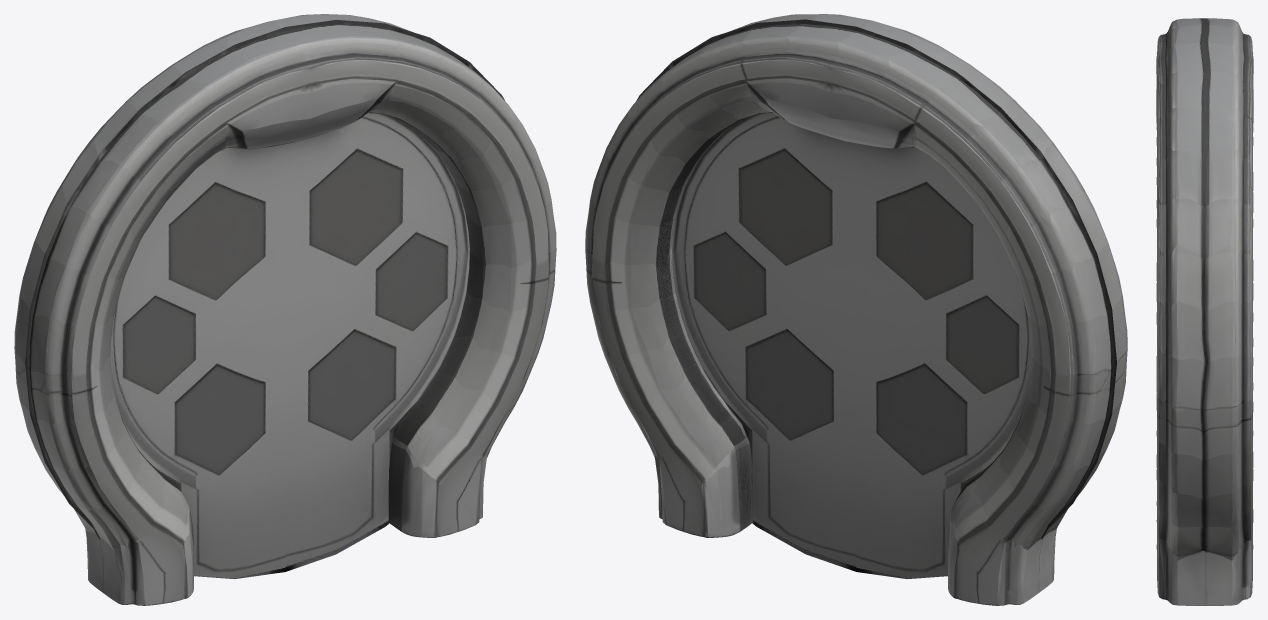
File: Door.fbx
The picture shows the model from 3 angles, left to right: view 1: azimuth 30°, elevation 25°; view 2: azimuth 150°, elevation 25°; view 3: azimuth 270°, elevation 25°; orthographic projection. The views are drawn at different scales.
Visible parts, largest first — view 1: Mesh_0, Mesh_0.002, Mesh_0.001; view 2: Mesh_0, Mesh_0.002, Mesh_0.001; view 3: Mesh_0.
Part boxes in pixels (x1=…): Mesh_0: x1=14, y1=14, x2=556, y2=605; Mesh_0.002: x1=285, y1=19, x2=504, y2=571; Mesh_0.001: x1=25, y1=27, x2=285, y2=579; Mesh_0: x1=585, y1=14, x2=1127, y2=605; Mesh_0.002: x1=636, y1=19, x2=856, y2=571; Mesh_0.001: x1=856, y1=26, x2=1116, y2=578; Mesh_0: x1=1156, y1=18, x2=1253, y2=605.
Size of the model in its own units: 200 by 200 by 34.86.
1 material, 1 textured.
